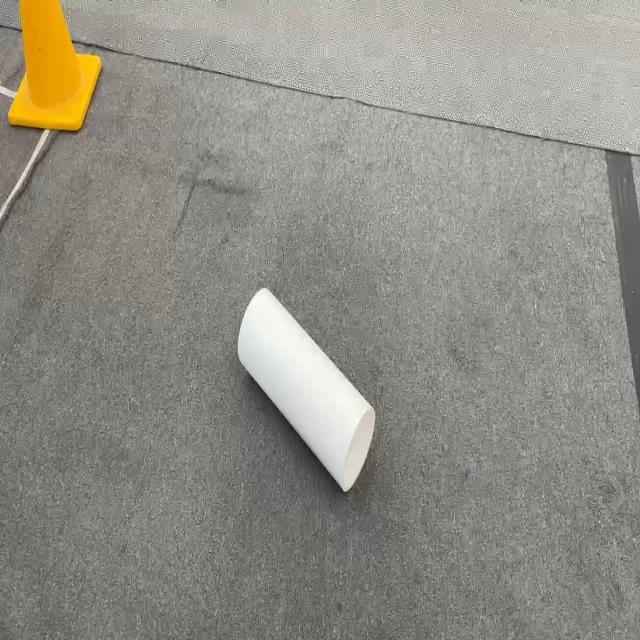coral: (237, 286, 376, 494)
